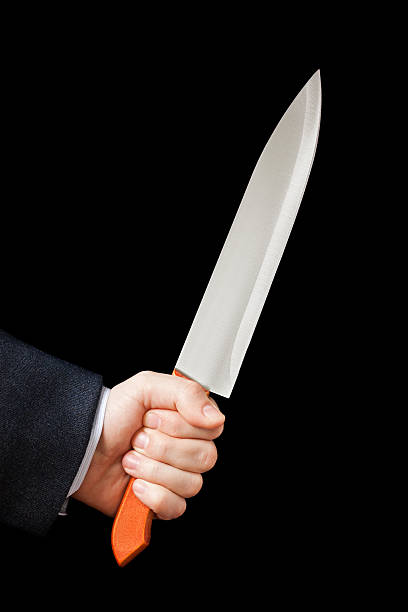knife: (109, 66, 325, 568)
